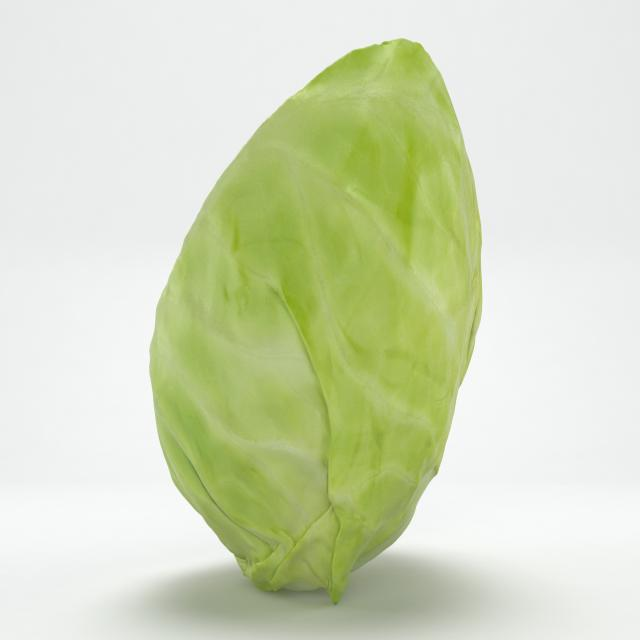haft-cabbage: (144, 35, 484, 610)
